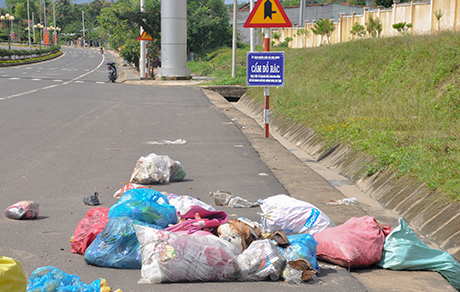plastic bag: (131, 223, 237, 284), (315, 214, 390, 271), (383, 219, 460, 271), (256, 192, 337, 232), (84, 218, 142, 269), (113, 186, 181, 227), (237, 237, 283, 284), (26, 266, 100, 292), (131, 152, 185, 185), (69, 207, 106, 255), (1, 252, 27, 292), (5, 200, 40, 220)
